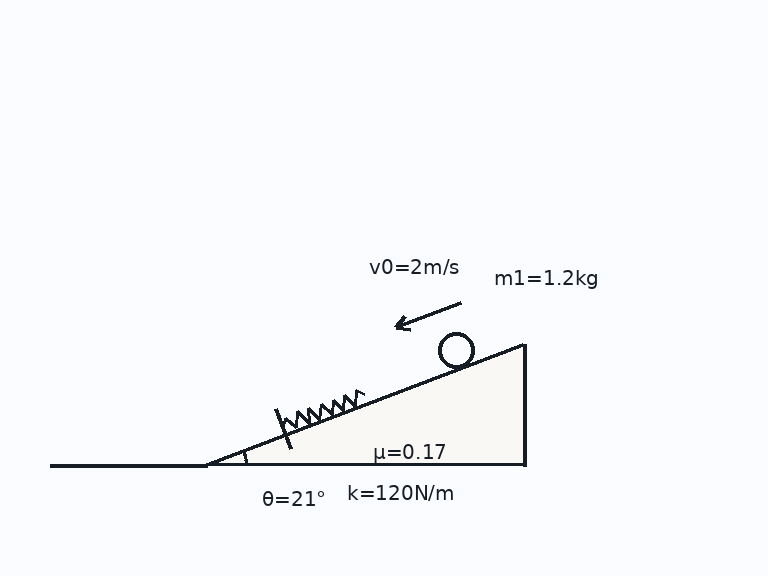ball: (436, 330, 476, 370)
ramp: (204, 341, 525, 467)
spring: (280, 388, 367, 430)
